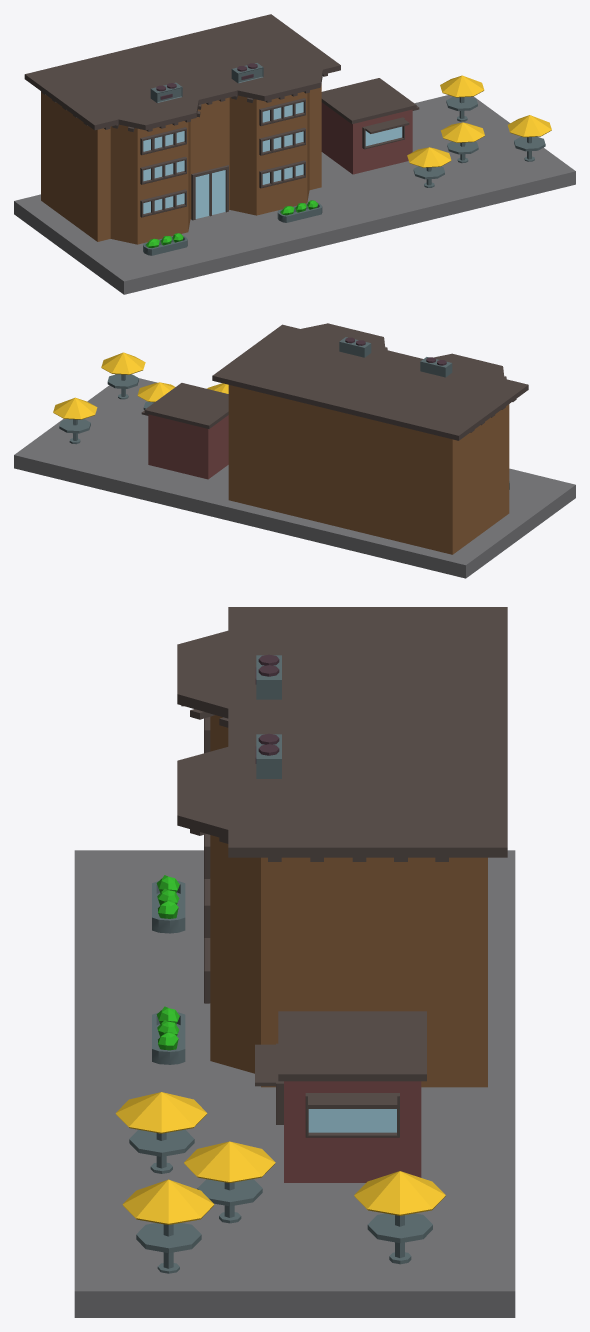
File: Block_2.fbx
3 views of the same model, one above another, from view 1: azimuth 30°, elevation 25°; view 2: azimuth 150°, elevation 25°; view 3: azimuth 270°, elevation 25° (orthographic). The views are drawn at different scales.
Parts seen in each view (by area): view 1: pasted__pasted__pCube12, pasted__pasted__pasted__pCube16, polySurface56, pasted__polySurface62, pasted__pasted__polySurface67, pasted__pasted__pasted__polySurface70, pasted__pasted__pasted__polySurface69, pasted__pasted__polySurface69, pasted__pasted__polySurface70, pasted__polySurface69, pasted__pasted__pasted__pasted__polySurface69, polySurface65 (+9 smaller); view 2: pasted__pasted__pCube12, pasted__pasted__pasted__pCube16, polySurface56, polySurface65, polySurface69, pasted__pasted__pasted__pCylinder8, pasted__pasted__pCylinder8, polySurface61, polySurface67, polySurface71; view 3: pasted__pasted__pCube12, pasted__pasted__pasted__pCube16, polySurface56, pasted__polySurface67, polySurface65, polySurface69, polySurface61, polySurface57, polySurface67, polySurface71, pasted__pasted__polySurface67, polySurface59 (+5 smaller).
Boxes of the visible parts, x1=… form: pasted__pasted__pCube12: x1=24, y1=14, x2=340, y2=244; pasted__pasted__pasted__pCube16: x1=14, y1=95, x2=575, y2=294; polySurface56: x1=321, y1=78, x2=416, y2=174; pasted__polySurface62: x1=191, y1=165, x2=228, y2=220; pasted__pasted__polySurface67: x1=362, y1=117, x2=409, y2=149; pasted__pasted__pasted__polySurface70: x1=140, y1=189, x2=186, y2=217; pasted__pasted__pasted__polySurface69: x1=259, y1=127, x2=305, y2=155; pasted__pasted__polySurface69: x1=140, y1=156, x2=186, y2=184; pasted__pasted__polySurface70: x1=259, y1=98, x2=305, y2=125; pasted__polySurface69: x1=140, y1=127, x2=186, y2=155; pasted__pasted__pasted__pasted__polySurface69: x1=259, y1=160, x2=305, y2=188; polySurface65: x1=507, y1=115, x2=551, y2=137; pasted__pasted__pCube12: x1=212, y1=323, x2=528, y2=554; pasted__pasted__pasted__pCube16: x1=14, y1=378, x2=575, y2=578; polySurface56: x1=144, y1=383, x2=228, y2=479; polySurface65: x1=101, y1=352, x2=145, y2=374; polySurface69: x1=53, y1=397, x2=97, y2=419; pasted__pasted__pasted__pCylinder8: x1=339, y1=337, x2=371, y2=357; pasted__pasted__pCylinder8: x1=420, y1=357, x2=452, y2=377; polySurface61: x1=137, y1=382, x2=175, y2=402; polySurface67: x1=107, y1=374, x2=138, y2=388; polySurface71: x1=59, y1=419, x2=90, y2=433; pasted__pasted__pCube12: x1=177, y1=607, x2=507, y2=1087; pasted__pasted__pasted__pCube16: x1=74, y1=850, x2=515, y2=1317; polySurface56: x1=278, y1=1011, x2=426, y2=1182; pasted__polySurface67: x1=305, y1=1093, x2=399, y2=1137; polySurface65: x1=122, y1=1179, x2=214, y2=1224; polySurface69: x1=354, y1=1171, x2=445, y2=1215; polySurface61: x1=184, y1=1141, x2=275, y2=1183; polySurface57: x1=115, y1=1092, x2=207, y2=1133; polySurface67: x1=136, y1=1223, x2=201, y2=1253; polySurface71: x1=367, y1=1213, x2=432, y2=1243; pasted__pasted__polySurface67: x1=255, y1=1043, x2=283, y2=1124; polySurface59: x1=129, y1=1129, x2=194, y2=1156.
Size of the model in its own units: 710 by 226 by 299.
